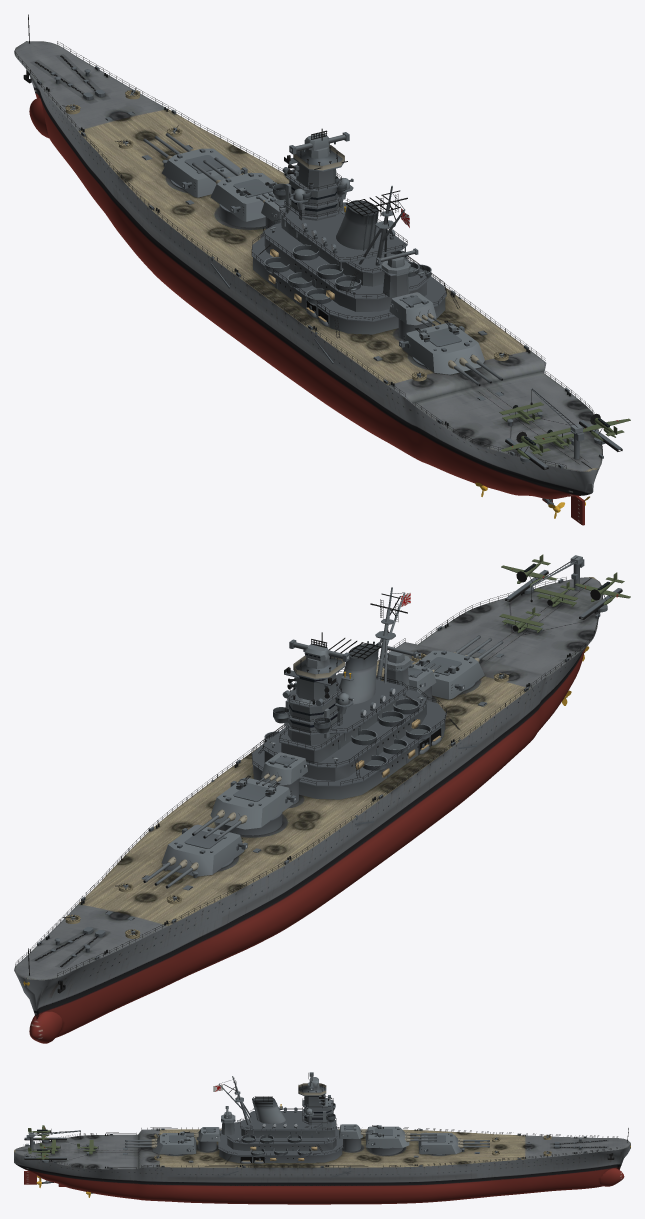
Rendered from yamato.glb.
3 renders of one model, top to bottom at view 1: azimuth 30°, elevation 25°; view 2: azimuth 150°, elevation 25°; view 3: azimuth 270°, elevation 25°, orthographic. The views are drawn at different scales.
Visible parts, largest first — view 1: hull, fine, T3m, T2m, T1m, S2m; view 2: hull, T2m, fine, T1m, T3m, S1m, S2m; view 3: hull, fine, T2m, T3m, T1m, S1m, S2m.
Boxes of the visible parts, bbox=[...] form: hull: bbox=[14, 14, 630, 525]; fine: bbox=[15, 41, 602, 468]; T3m: bbox=[399, 320, 484, 374]; T2m: bbox=[210, 172, 276, 227]; T1m: bbox=[162, 148, 247, 197]; S2m: bbox=[389, 292, 436, 339]; hull: bbox=[14, 554, 630, 1043]; T2m: bbox=[210, 775, 296, 835]; fine: bbox=[15, 577, 602, 977]; T1m: bbox=[161, 824, 247, 876]; T3m: bbox=[414, 650, 484, 699]; S1m: bbox=[261, 752, 307, 804]; S2m: bbox=[408, 663, 436, 701]; hull: bbox=[14, 1072, 630, 1204]; fine: bbox=[26, 1084, 617, 1168]; T2m: bbox=[365, 1125, 409, 1154]; T3m: bbox=[152, 1131, 196, 1154]; T1m: bbox=[418, 1132, 461, 1154]; S1m: bbox=[339, 1124, 362, 1151]; S2m: bbox=[196, 1127, 220, 1151].
Size of what is drawn, in the model's own units: 38.89 by 54.3 by 263.
4 materials, 2 textured.
